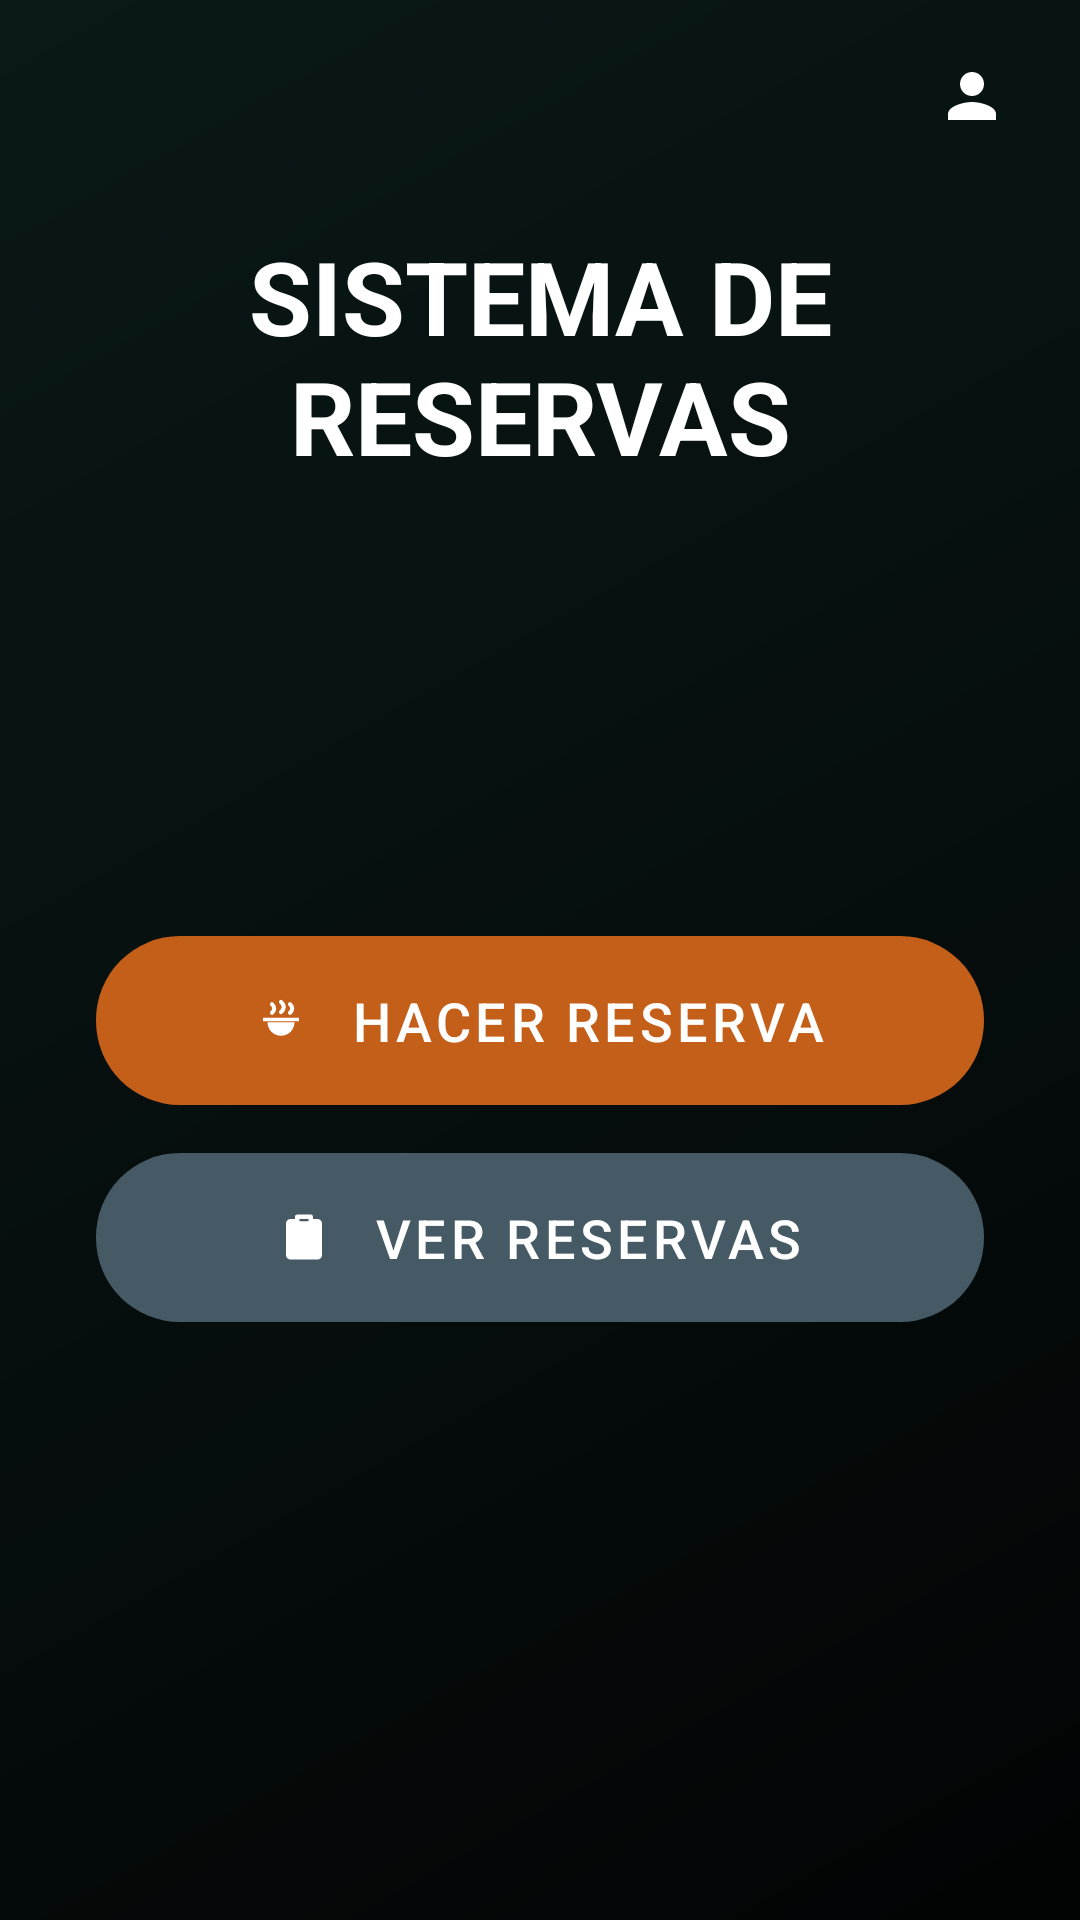

Icon click points for this 1080x1920 phone screenshot, format point (x, y):
Perfil: point (972, 96)
